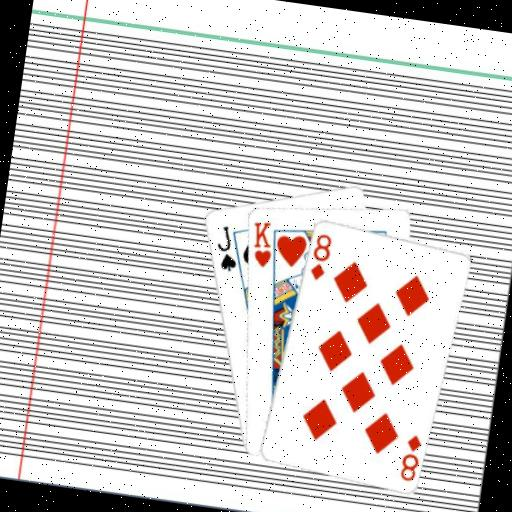8D: (306, 229, 335, 283), (396, 430, 424, 483)
JS: (210, 221, 244, 274)
KH: (245, 217, 277, 270)
